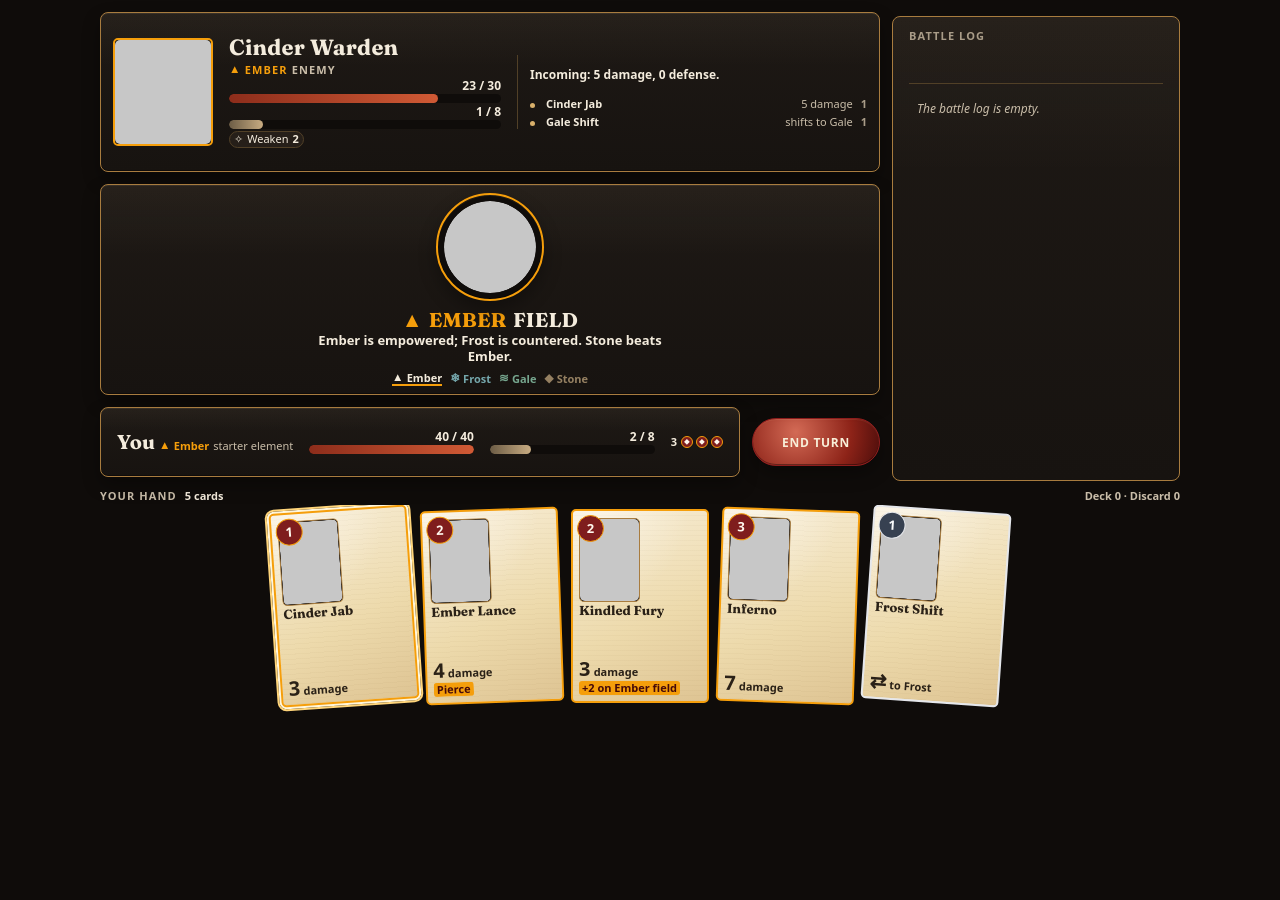
BattleBoard card detail › closes on the close button and on a backdrop tap
Step 1. Click the button with aria-label "1 energy, Cinder Jab, Ember attack, 3 damage" → (344, 606), box [268,504,420,708]
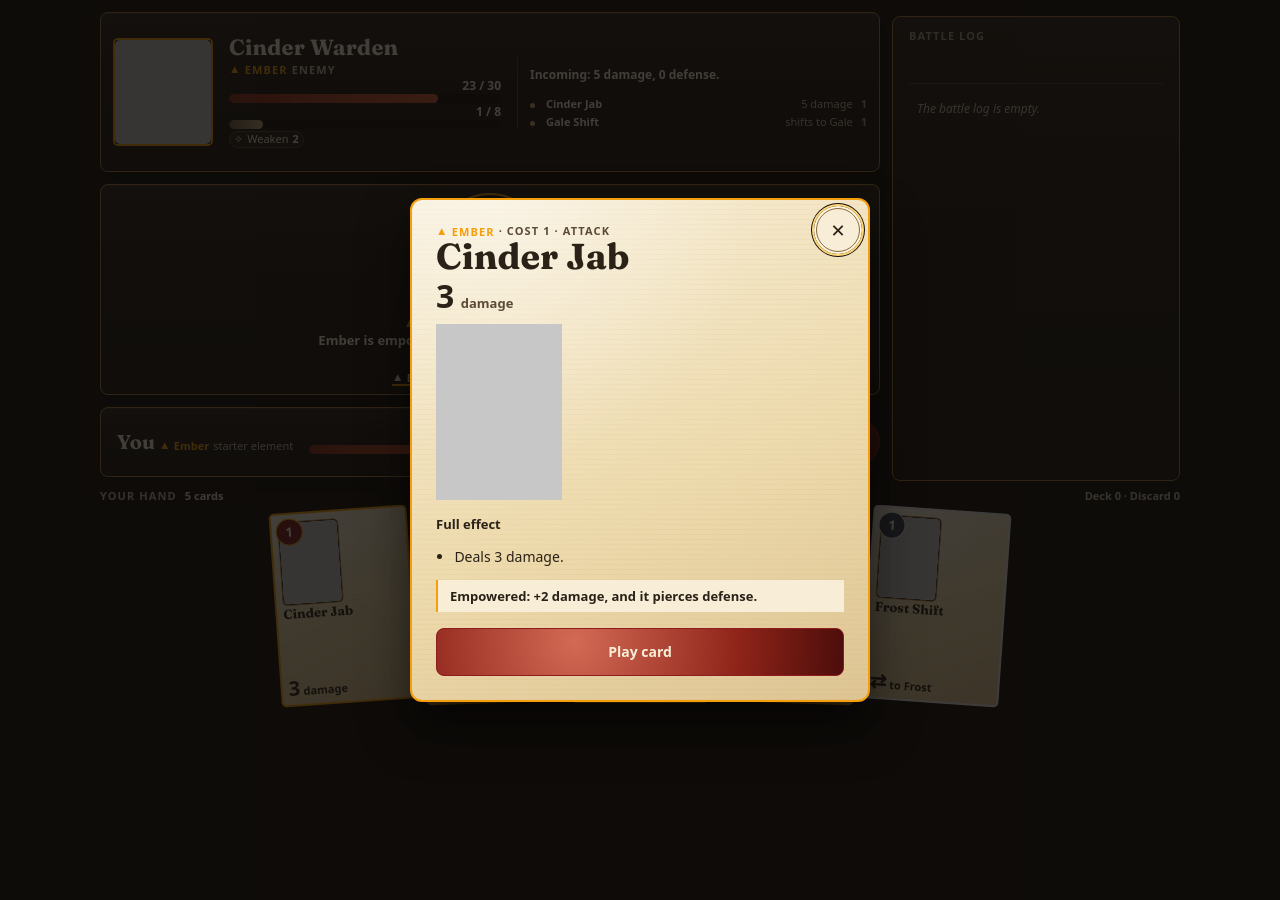
Step 2. Click the button named "Close card detail" → (838, 230), box [816,208,860,252]
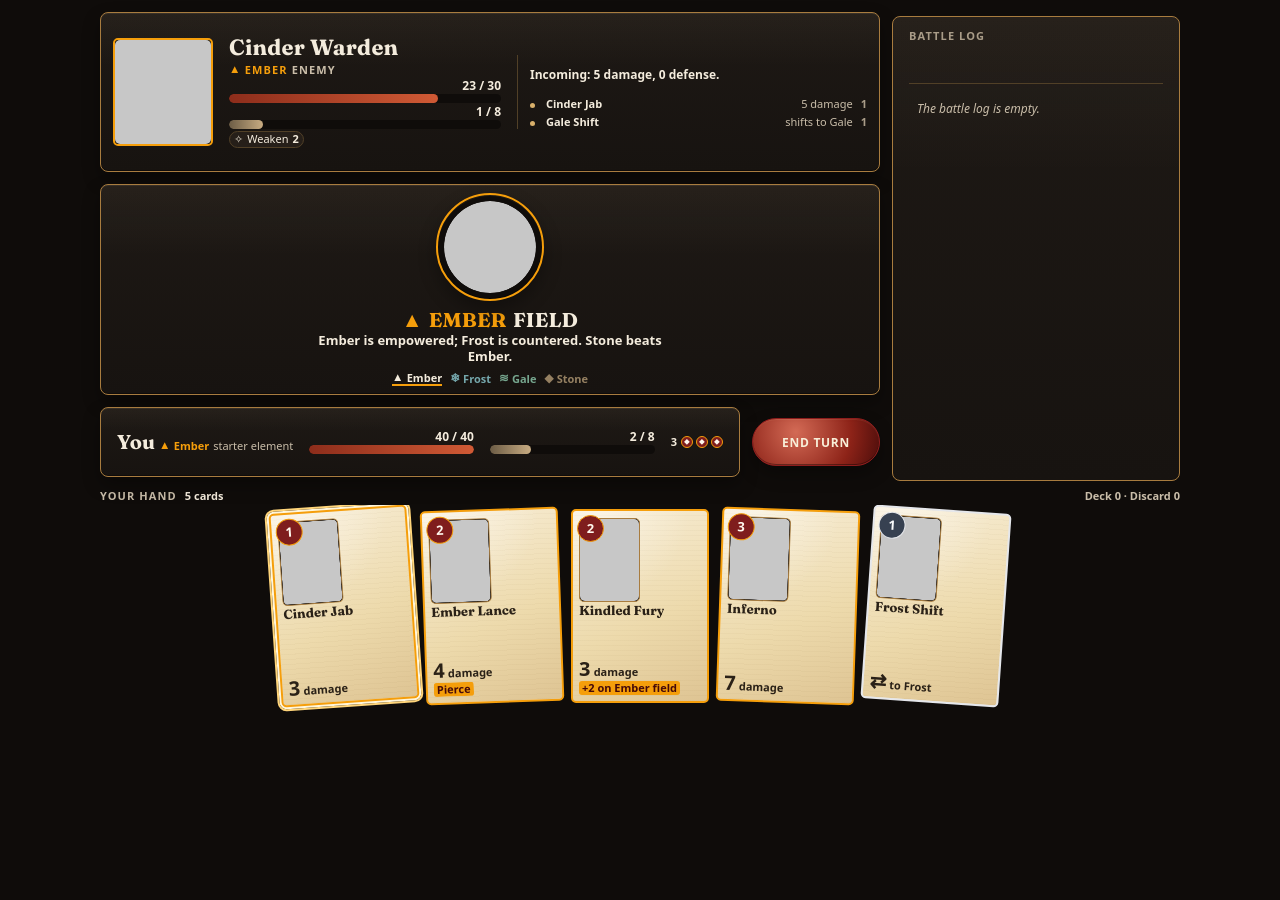
Expected: the dialog is gone
Step 3. Click the button with aria-label "1 energy, Cinder Jab, Ember attack, 3 damage" → (344, 606), box [268,504,420,708]
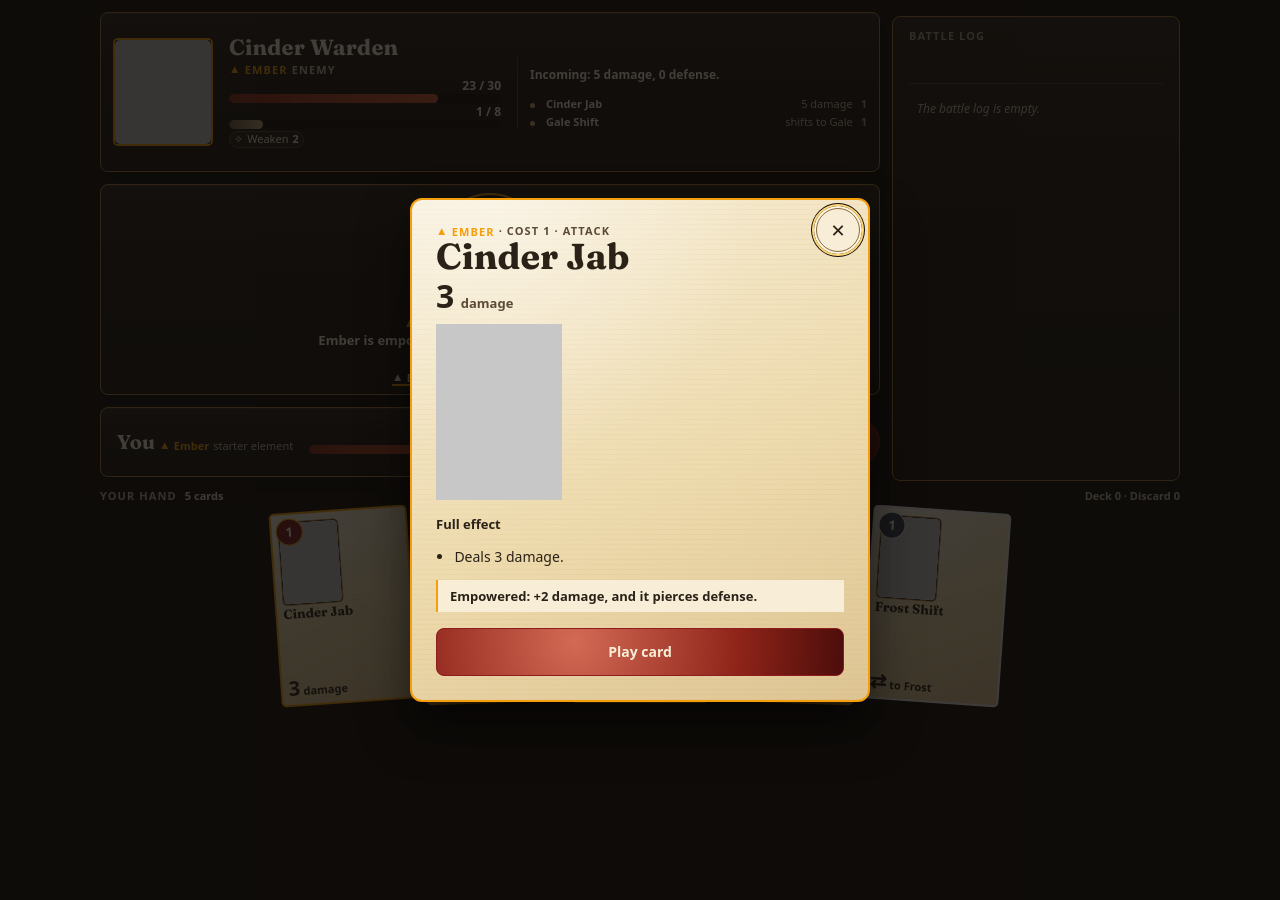
Step 4. Click the element that starts with "Ember" → (77, 450), box [0,0,1279,899]
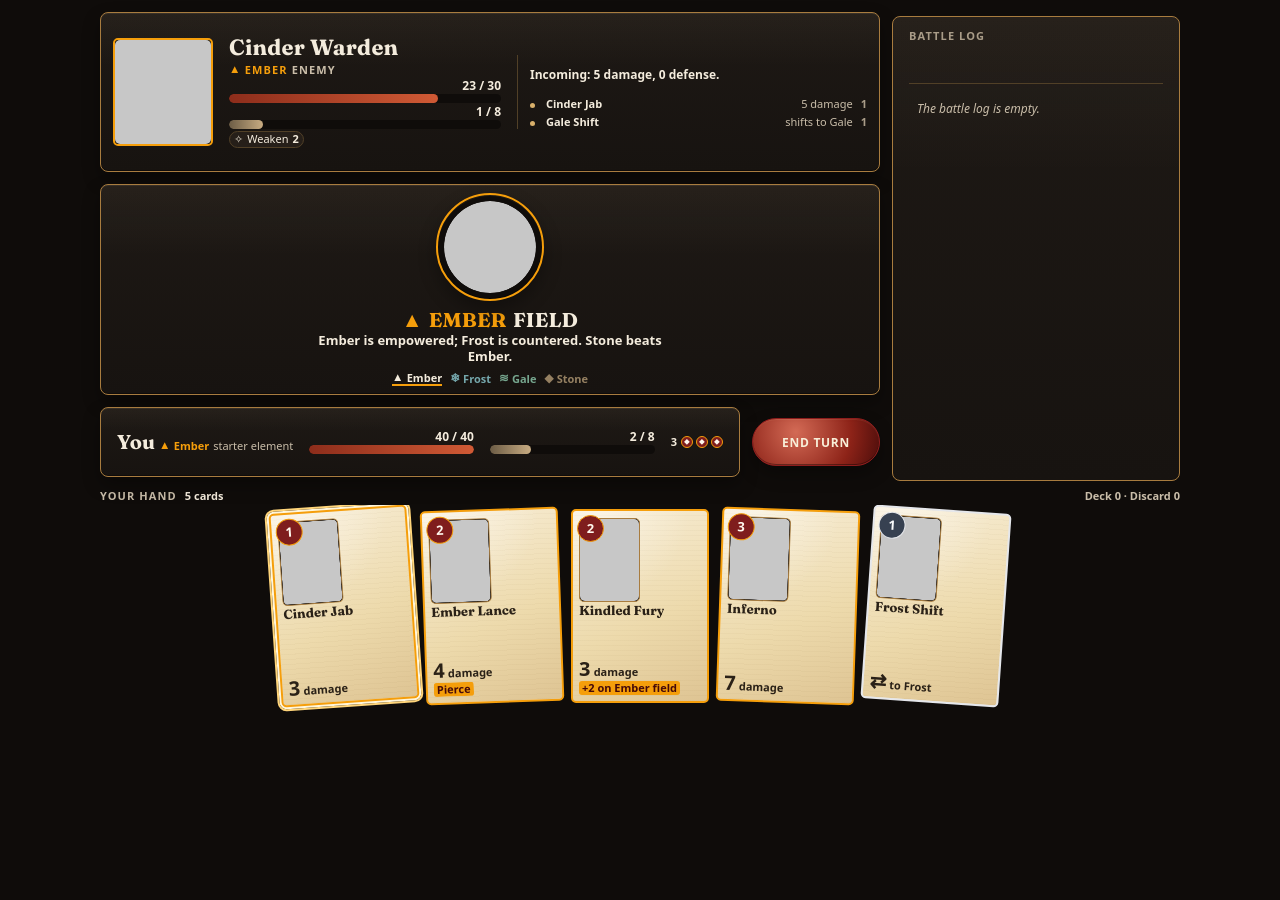
Expected: the dialog is gone
